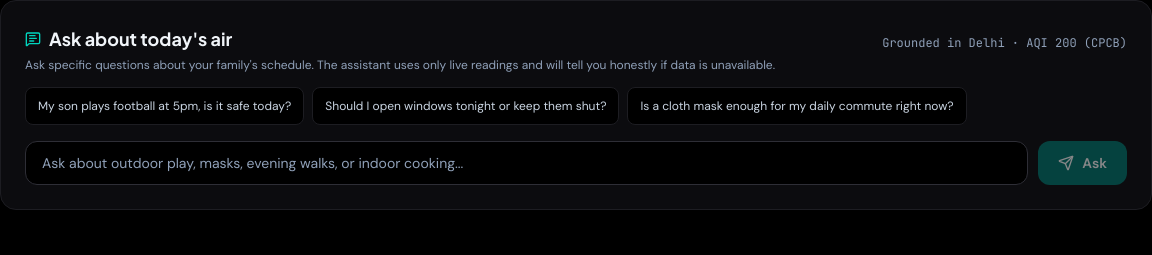
Scenario: Components Deep 100% Coverage Suite › covers GroundedChat api error display
This screenshot has width=1152, height=255.
Replace the text in the field with placeholder "Ask about outdoor play" with "Should I walk outside?" at (527,163), box [25,141,1028,185]
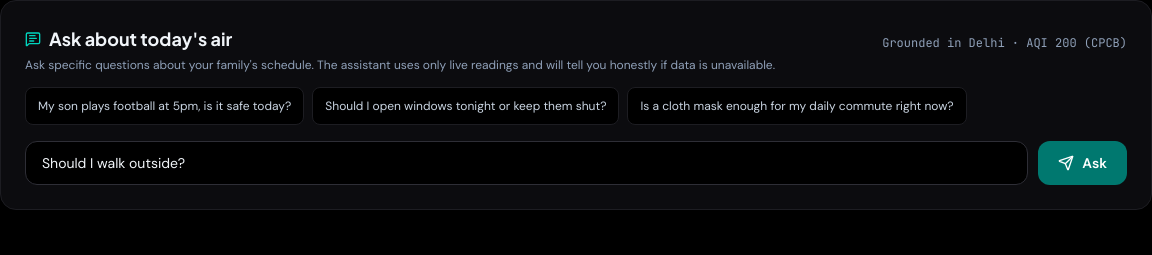
Submit the form from the button "Ask", box [1038,141,1127,185]
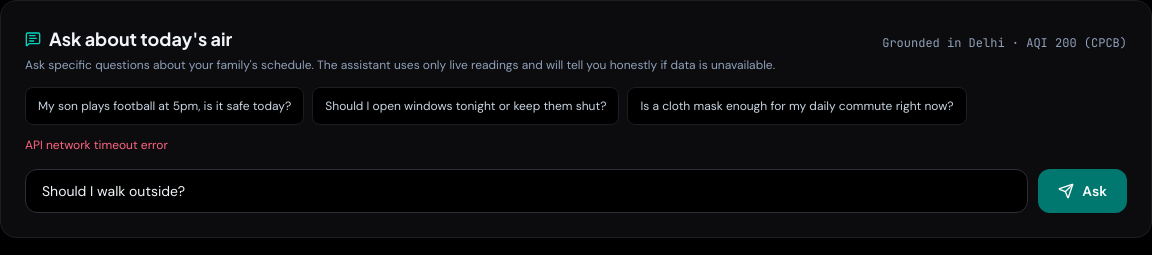
Result: the text "API network timeout error" is shown at [25,137,168,153]
